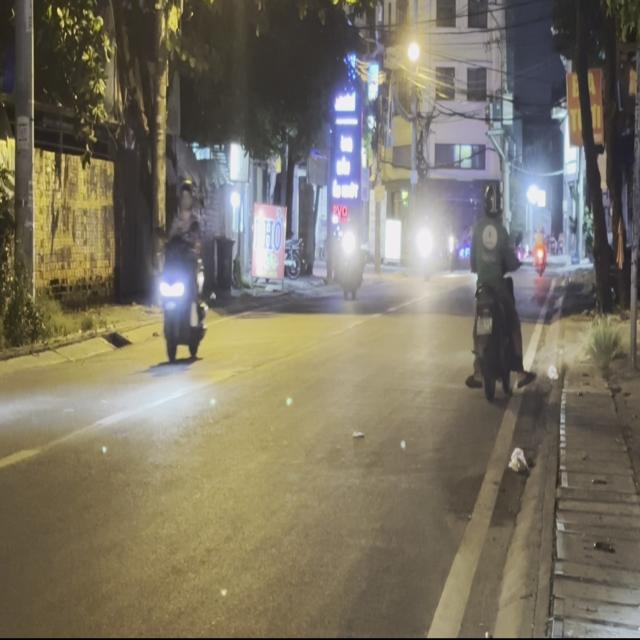helmet: (483, 182, 502, 218)
licenseplate: (464, 180, 528, 404)
nohelmet: (475, 315, 491, 333)
